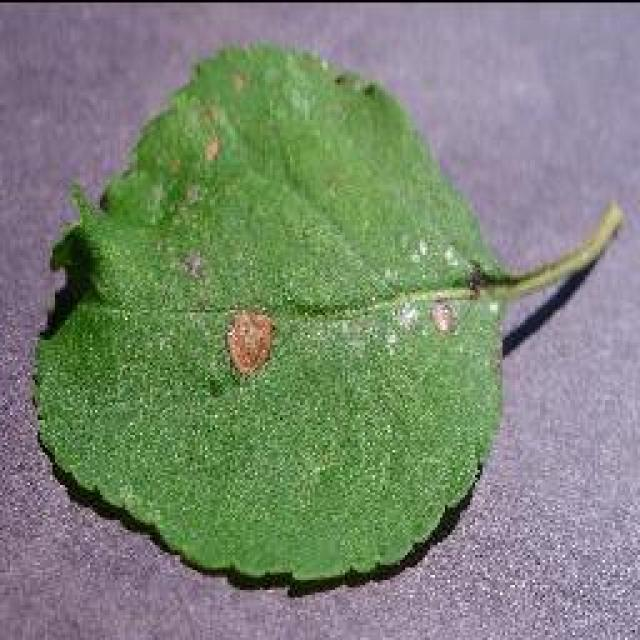apple black rot: (28, 38, 622, 598)
